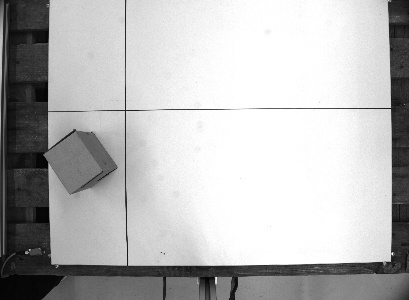b5: (40, 127, 119, 196)
